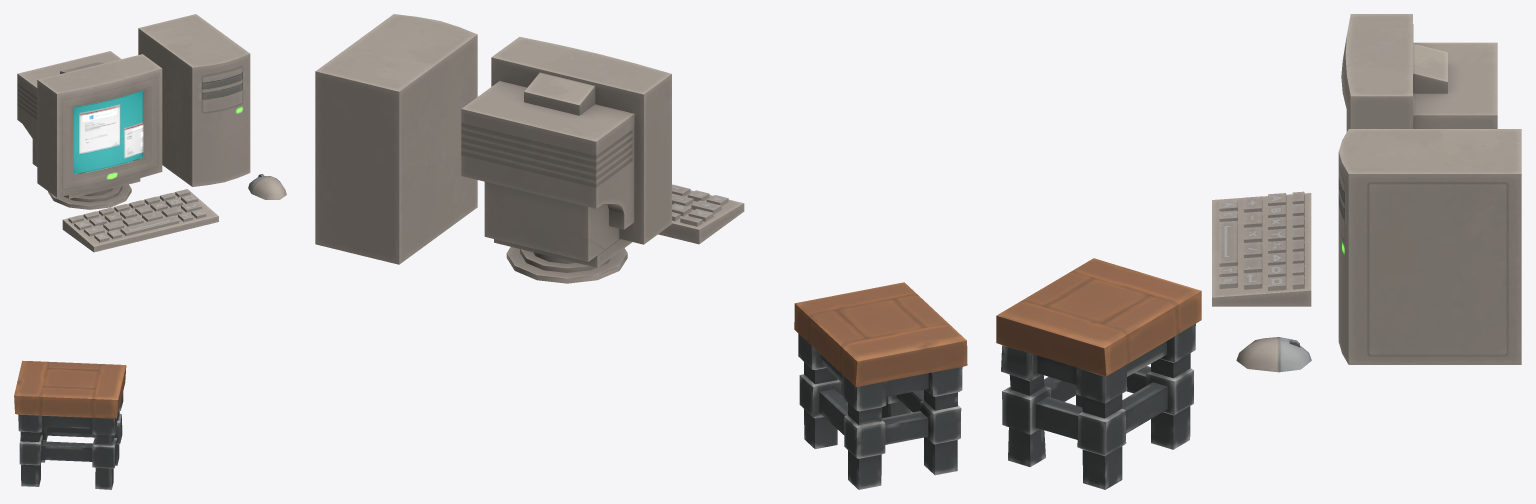
File: MasterKey.fbx
3 views of the same model, side by side, from view 1: azimuth 30°, elevation 25°; view 2: azimuth 150°, elevation 25°; view 3: azimuth 270°, elevation 25° (orthographic). The views are drawn at different scales.
Visible parts, largest first — view 1: Mat_Computer_01_01, Mat_Computer_01_01 _2, Mat_Indoors_Table_02; view 2: Mat_Computer_01_01 _2, Mat_Computer_01_01, Mat_Indoors_Table_02; view 3: Mat_Computer_01_01, Mat_Indoors_Table_02, Mat_Computer_01_01 _2.
Part boxes in pixels (left/top/right/bottom): Mat_Computer_01_01: left=62, top=14, right=286, bottom=252; Mat_Computer_01_01 _2: left=17, top=51, right=162, bottom=209; Mat_Indoors_Table_02: left=14, top=360, right=126, bottom=489; Mat_Computer_01_01 _2: left=461, top=36, right=671, bottom=283; Mat_Computer_01_01: left=315, top=14, right=744, bottom=264; Mat_Indoors_Table_02: left=794, top=282, right=967, bottom=489; Mat_Computer_01_01: left=1212, top=129, right=1521, bottom=372; Mat_Indoors_Table_02: left=996, top=258, right=1201, bottom=489; Mat_Computer_01_01 _2: left=1341, top=14, right=1497, bottom=131.
Bounding box in the file's own units: 1.84 × 1.64 × 1.61.
Materials: 3 (3 with a texture image).
